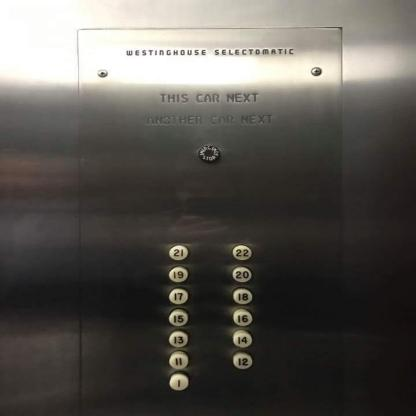1: (169, 371, 190, 390)
11: (166, 350, 190, 368)
12: (232, 350, 252, 369)
13: (166, 329, 189, 347)
14: (230, 329, 252, 347)
15: (166, 308, 189, 326)
16: (230, 308, 252, 326)
17: (167, 286, 189, 304)
18: (230, 286, 252, 304)
19: (167, 264, 189, 283)
20: (230, 265, 252, 282)
21: (167, 243, 189, 261)
22: (230, 244, 252, 260)
text: (196, 144, 222, 162)
